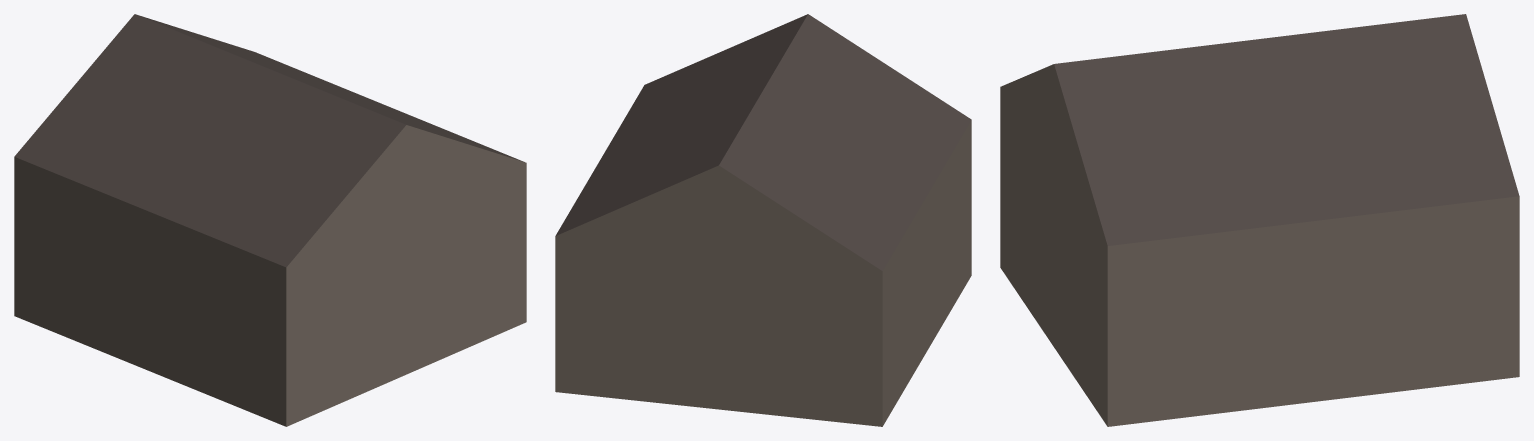
3 renders of one model, left to right at view 1: azimuth 30°, elevation 25°; view 2: azimuth 150°, elevation 25°; view 3: azimuth 270°, elevation 25°, orthographic. The views are drawn at different scales.
Parts seen in each view (by area): view 1: HP-w1376988791; view 2: HP-w1376988791; view 3: HP-w1376988791.
Part boxes in pixels (x1,y1,x2,y2): HP-w1376988791: (14,14,526,426); HP-w1376988791: (555,14,971,426); HP-w1376988791: (1000,14,1519,426).
Bounding box in the file's own units: 14.89 × 9.4 × 15.61.
